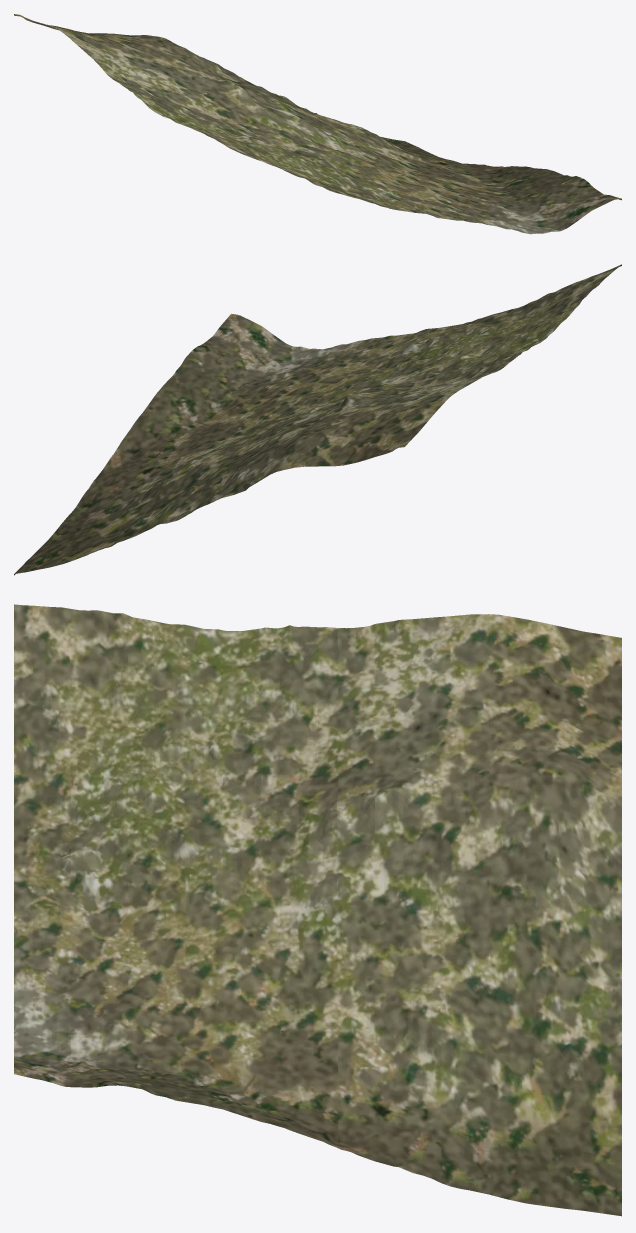
3 views of the same model, one above another, from view 1: azimuth 30°, elevation 25°; view 2: azimuth 150°, elevation 25°; view 3: azimuth 270°, elevation 25° (orthographic). The views are drawn at different scales.
Size of the model in its own units: 250 by 152 by 241.
1 material, 1 textured.
